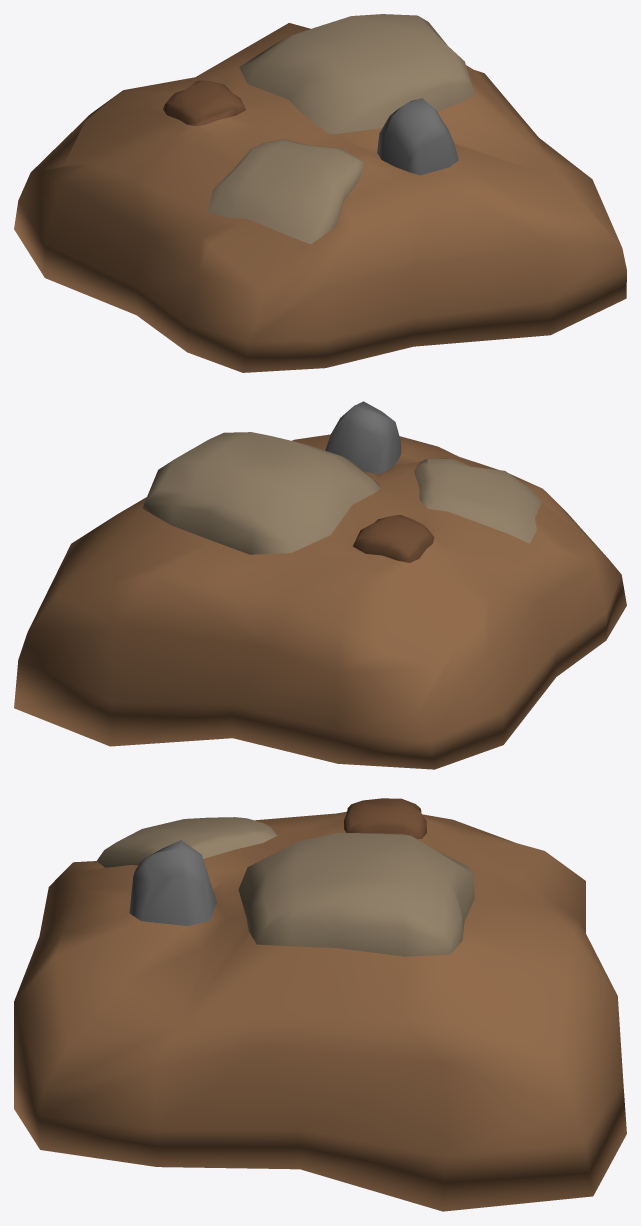
The model's file is Dirt_Unprepped_V2.fbx.
3 views of the same model, one above another, from view 1: azimuth 30°, elevation 25°; view 2: azimuth 150°, elevation 25°; view 3: azimuth 270°, elevation 25° (orthographic). The views are drawn at different scales.
Parts seen in each view (by area): view 1: Dirt_Unprepped; view 2: Dirt_Unprepped; view 3: Dirt_Unprepped.
Part boxes in pixels (x1,y1,x2,y2): Dirt_Unprepped: (14, 14, 626, 372); Dirt_Unprepped: (14, 401, 626, 769); Dirt_Unprepped: (14, 798, 626, 1211).
Size of the model in its own units: 93.94 by 43.97 by 93.94.
1 material, 1 textured.
